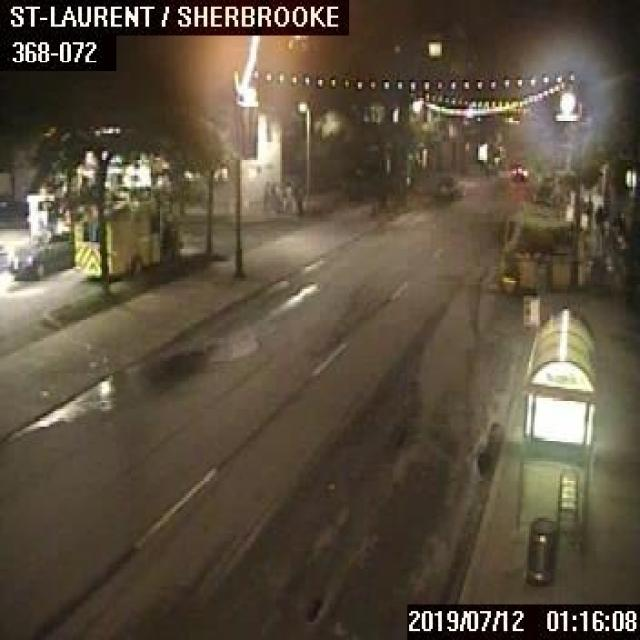pedestrian: (292, 178, 304, 211), (282, 178, 292, 210)
vehicle: (71, 189, 181, 275), (6, 230, 73, 276), (434, 174, 464, 198), (506, 161, 526, 181)
